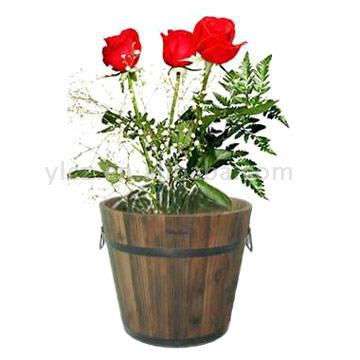flowerpot: (99, 196, 251, 347)
